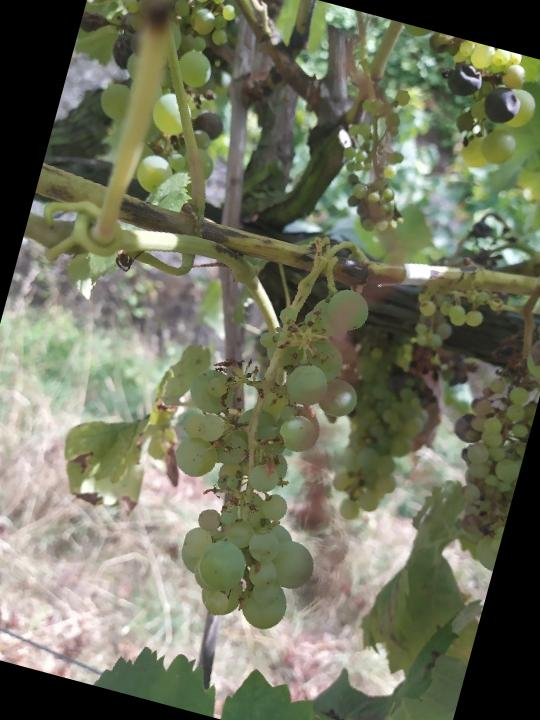grape: (127, 248, 390, 643)
